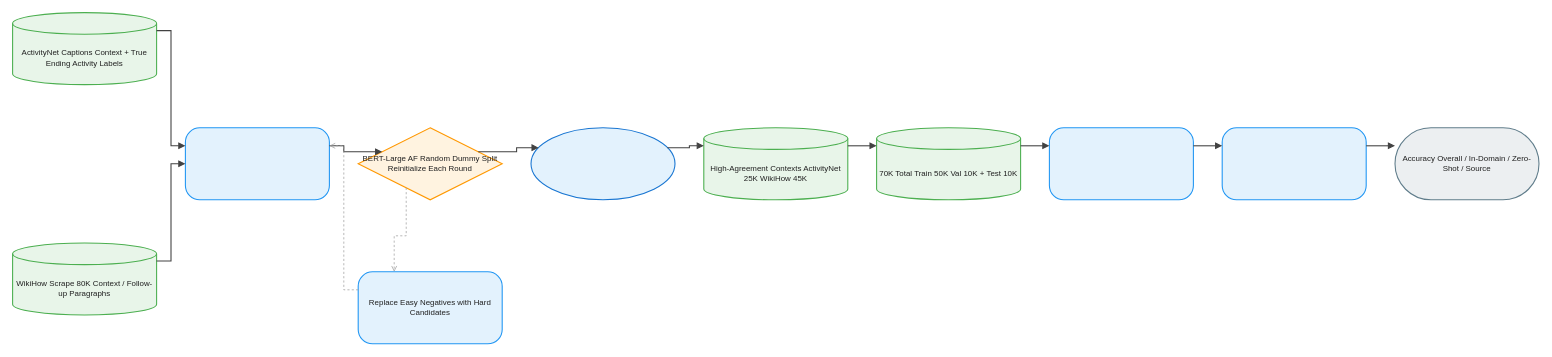
This 1552x357 diagram has some shape labels left out. The centre of each missing label's shape, as x and y in pixels:
"Crowd Validation 1 True + 5 AF Endings Replace Realistic Negatives" belongs at (x=602, y=163).
"Each Val/Test Set 5K In-Domain + 5K Held-Out Categories" belongs at (x=1121, y=163).
"Fine-Tuned GPT Oversample Wrong Endings Use 2-Sentence WikiHow" belongs at (x=257, y=163).
"Four-Way Choice One True + 3 Negatives" belongs at (x=1293, y=163).
